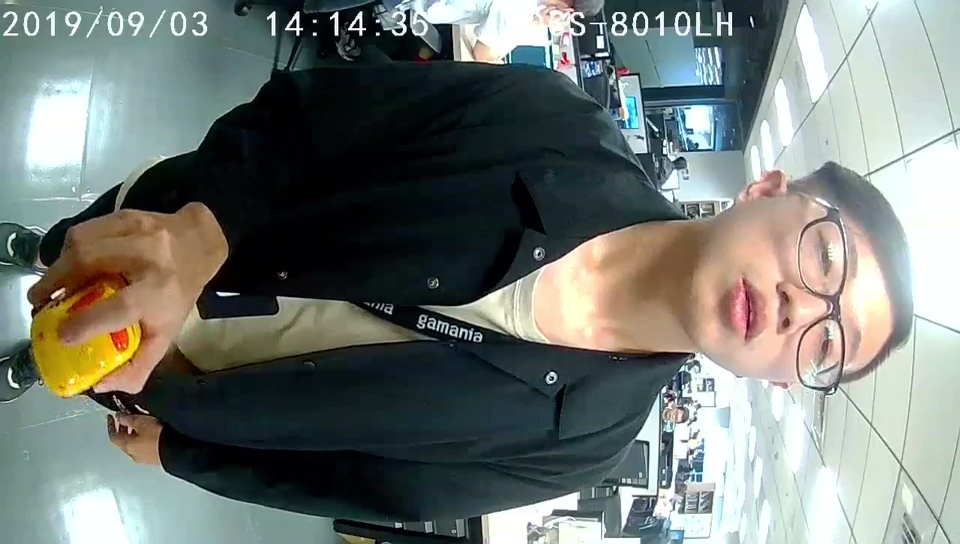car: (31, 279, 132, 396)
